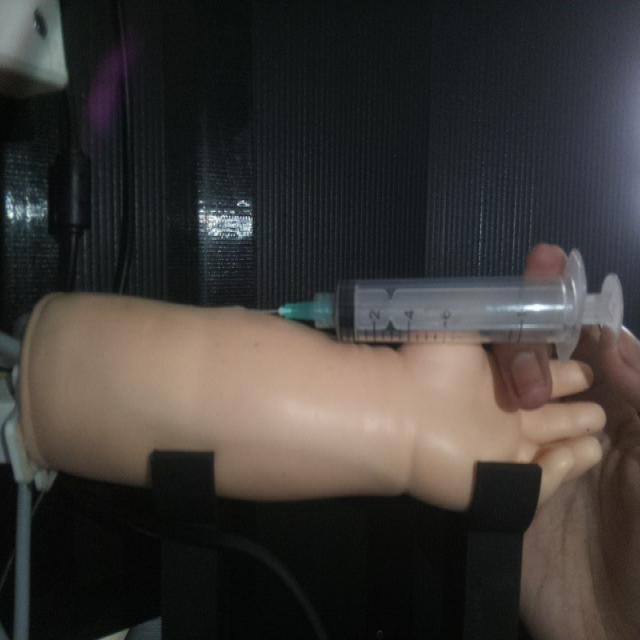Outside: (245, 250, 625, 360)
